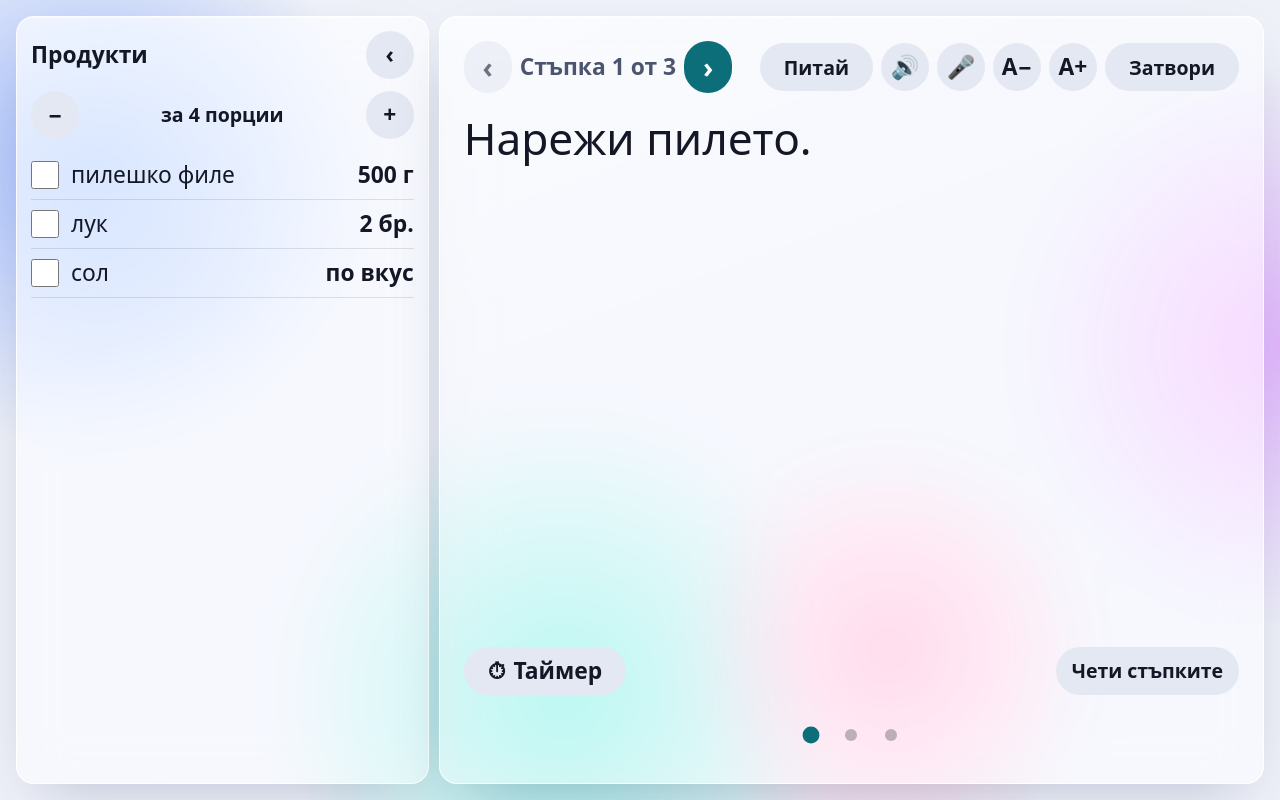
Scenario: Четене на глас в Готвене › излизането от Готвене („Затвори“) спира четенето
This screenshot has width=1280, height=800.
Check: the text "Стъпка 1 от 3" is shown, box left=520, top=52, right=676, bottom=82
Click the button named "Стъпка 3".
click(891, 735)  # box left=873, top=711, right=909, bottom=759
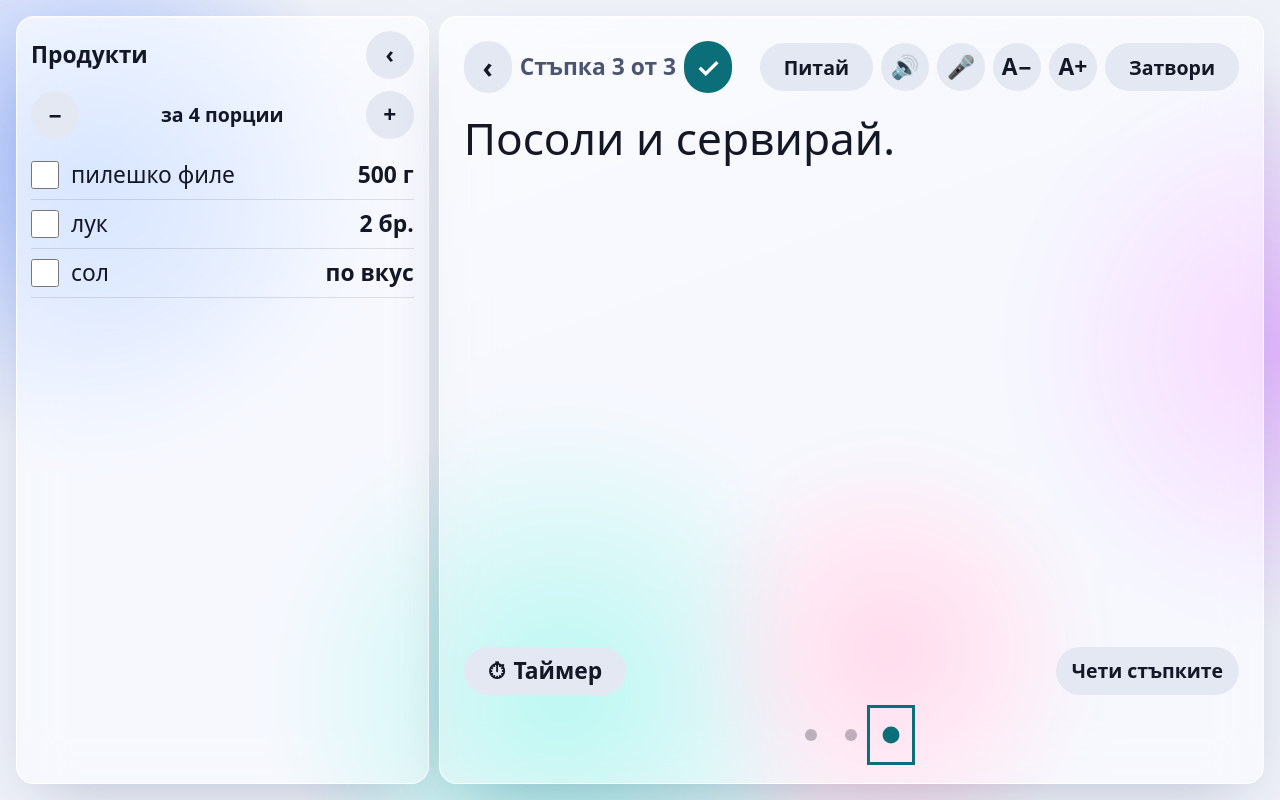
Click the button named "Прочети стъпката".
click(905, 67)  # box left=881, top=43, right=929, bottom=91
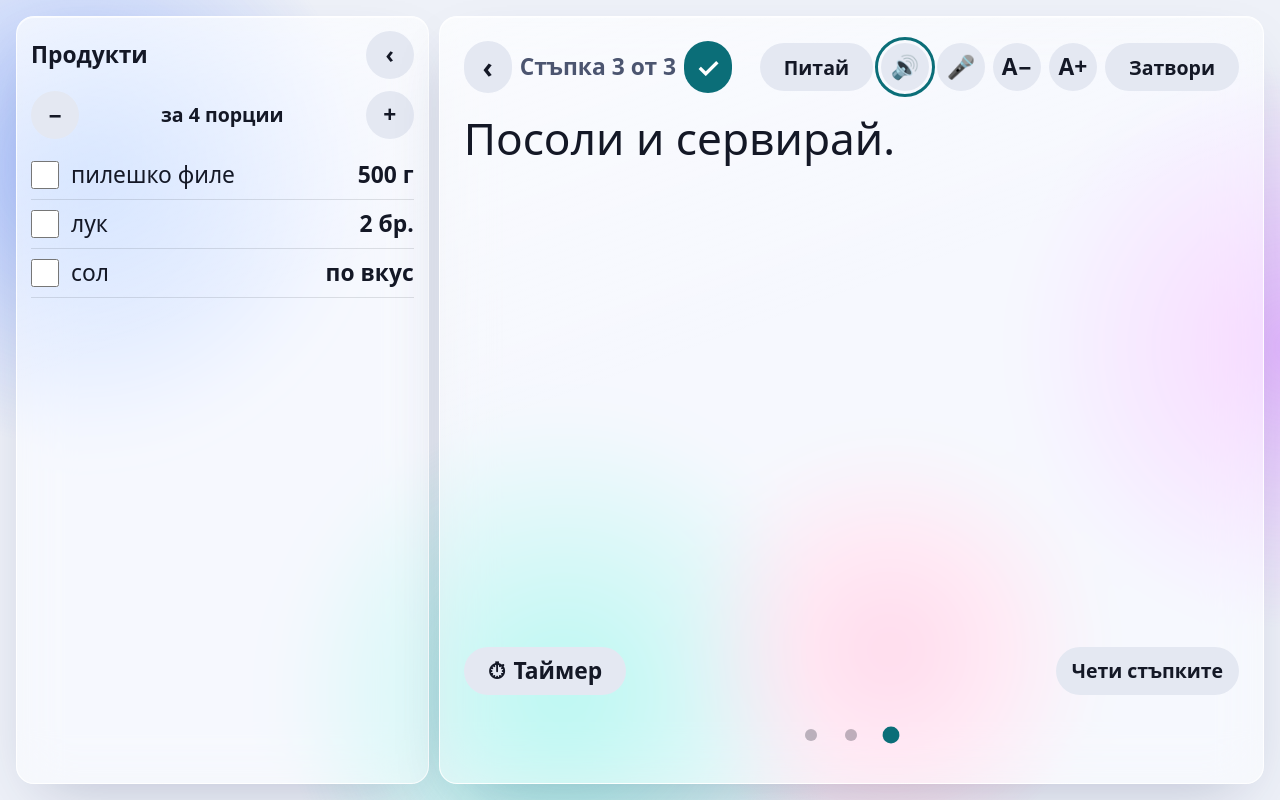
Click the button "Затвори".
click(1172, 67)  # box left=1105, top=43, right=1239, bottom=91
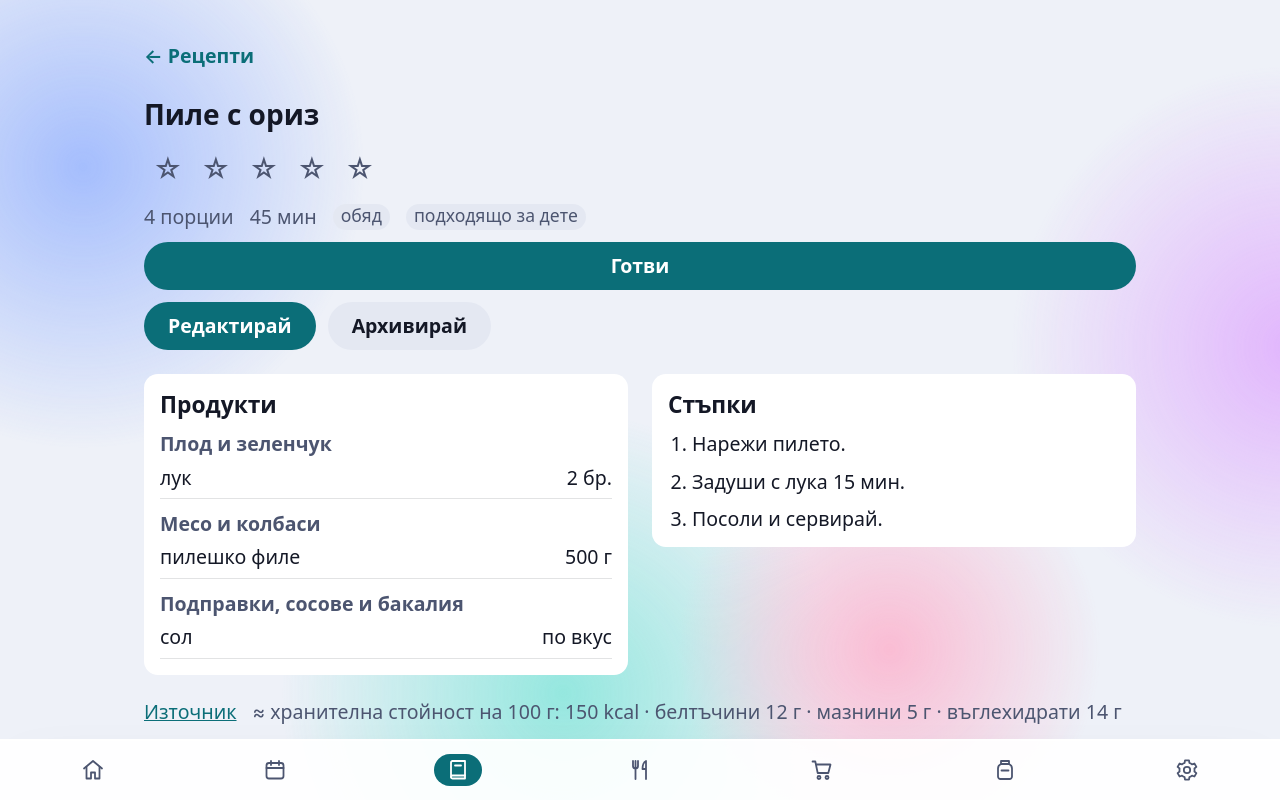
Check: the link "Готви" is shown, box left=144, top=242, right=1136, bottom=290
